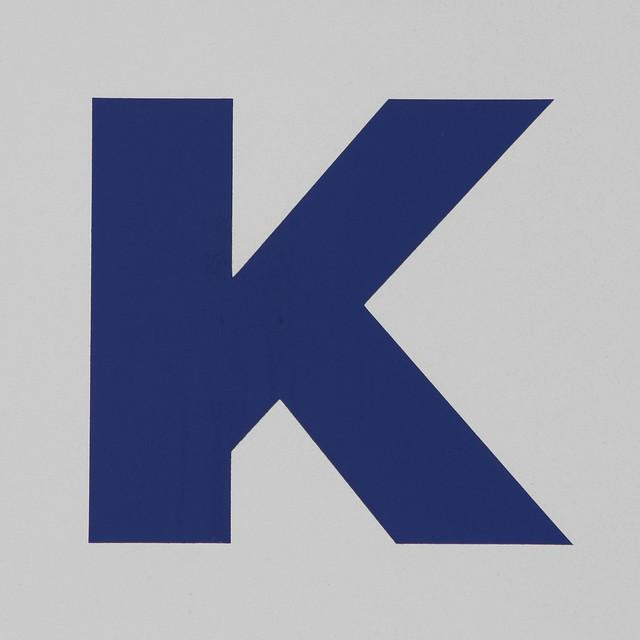K: (55, 41, 617, 604)
